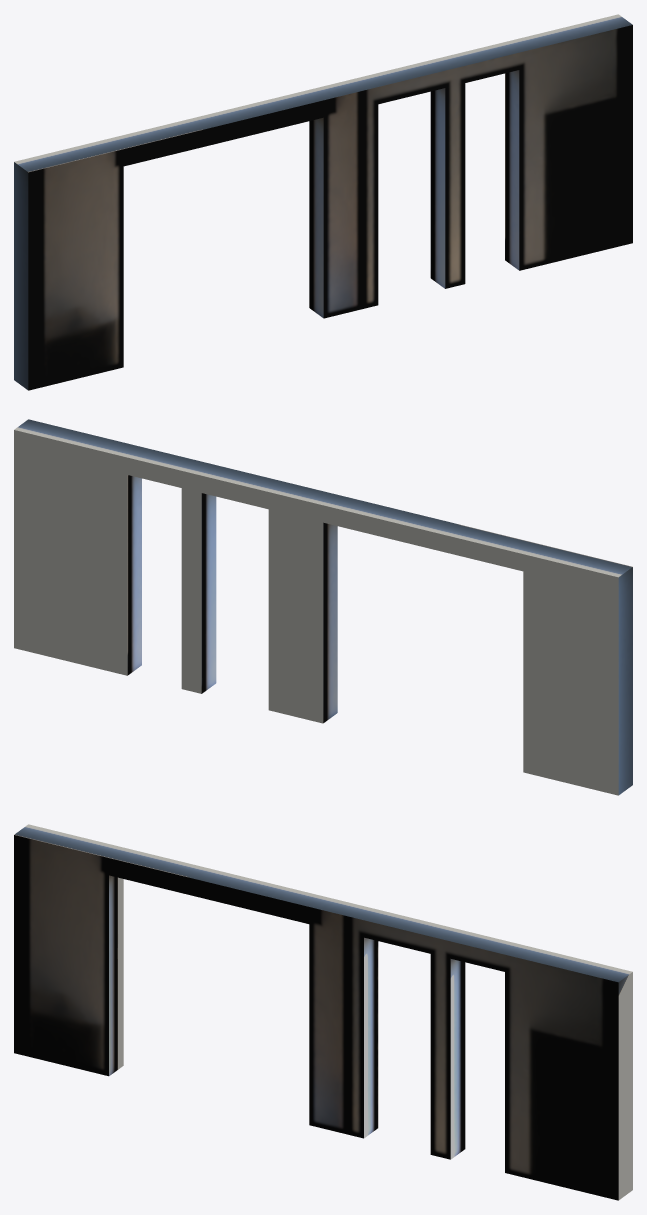
Rendered from Wall.D.gltf.
3 views of the same model, one above another, from view 1: azimuth 30°, elevation 25°; view 2: azimuth 150°, elevation 25°; view 3: azimuth 330°, elevation 25° (orthographic).
Parts seen in each view (by area): view 1: Wall.D; view 2: Wall.D; view 3: Wall.D.
Part boxes in pixels (x1=…): Wall.D: x1=14, y1=14, x2=632, y2=390; Wall.D: x1=14, y1=419, x2=632, y2=795; Wall.D: x1=14, y1=824, x2=632, y2=1200.
Bounding box in the file's own units: 7.25 × 2.5 × 0.3.
2 materials, 2 textured.
